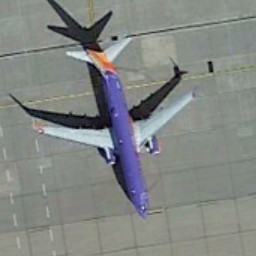Airplane: (19, 28, 207, 235)
